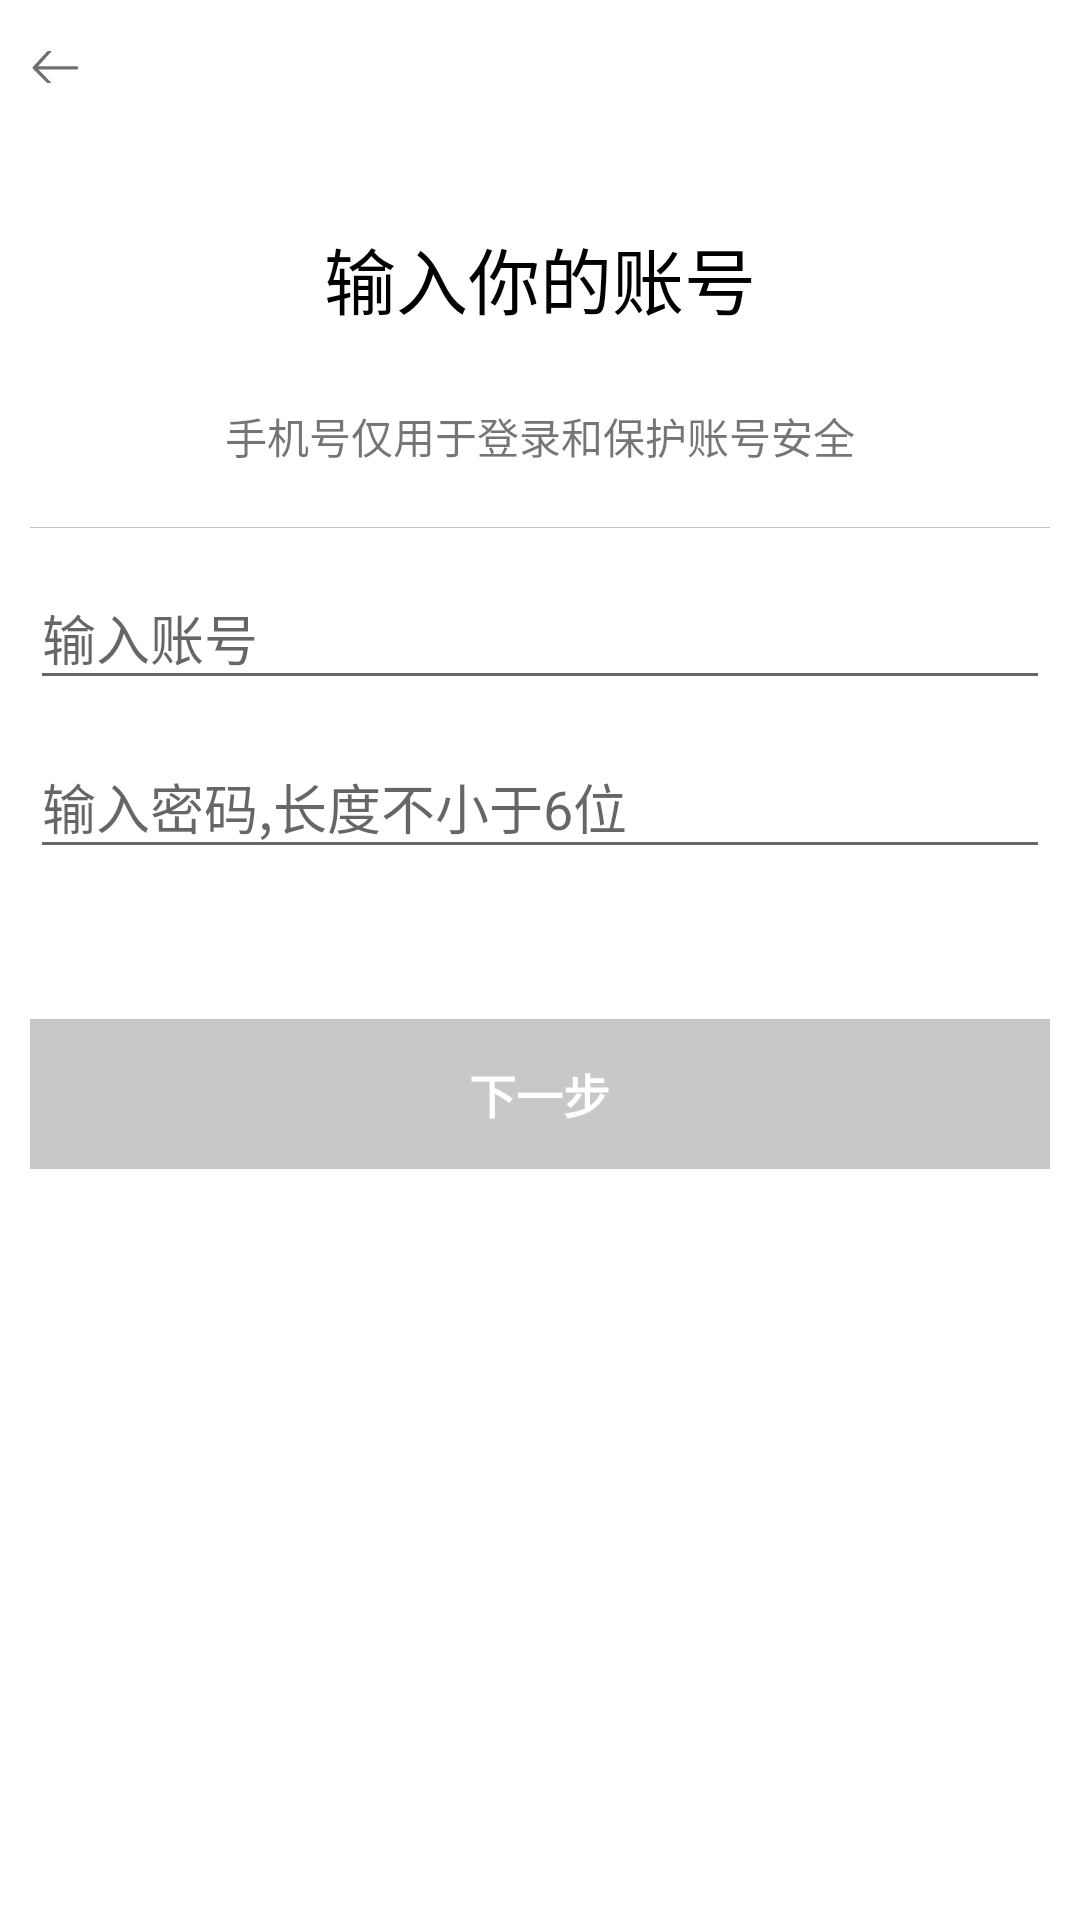

Screen size 1080px×1920px. Icon name, then its box in pixels as bbox=(x1, y1, x2, y2):
back: bbox=(32, 51, 79, 83)
